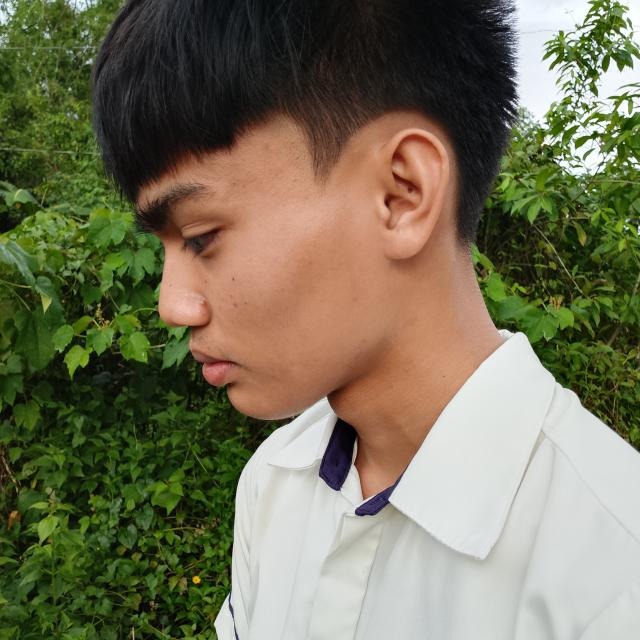education_male_uniform: (177, 330, 640, 640), (387, 313, 640, 639), (377, 367, 640, 561), (209, 378, 429, 548)
